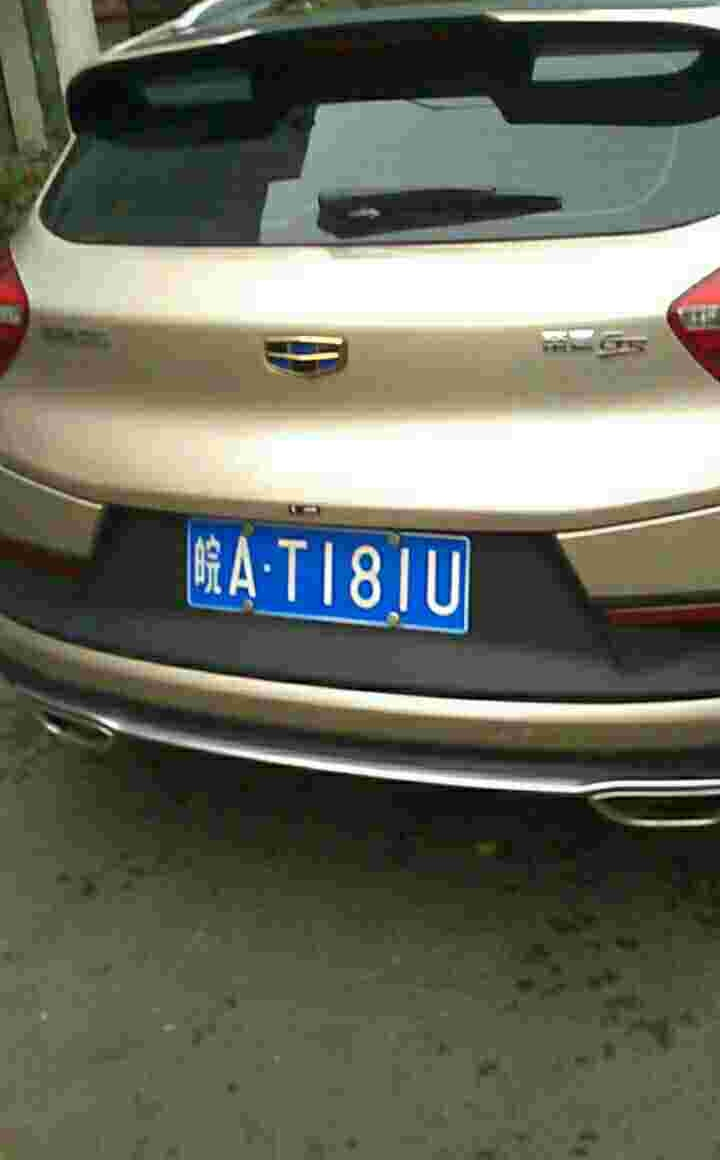license_plate: (190, 525, 476, 637)
